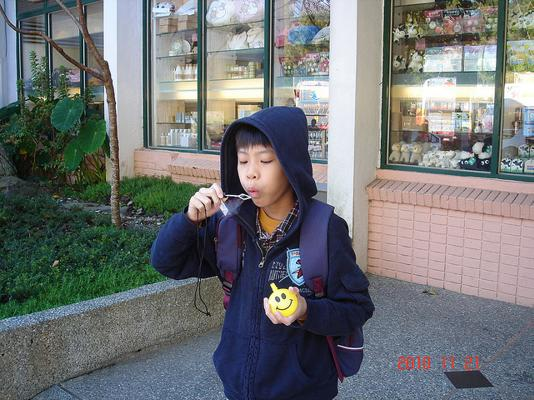person: (151, 107, 375, 400)
